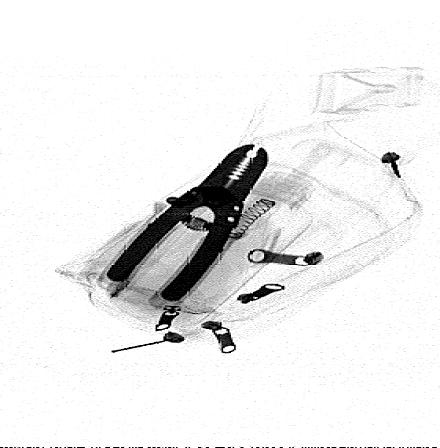Pliers: (102, 144, 268, 304)
